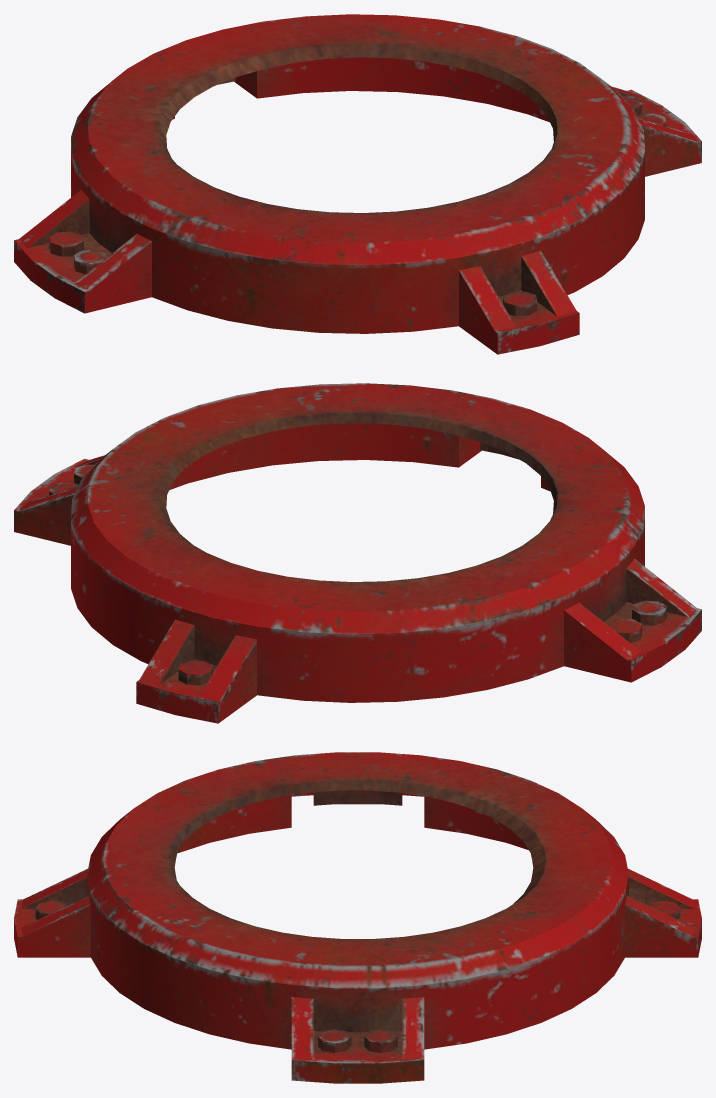
Rendered from asset_base_fixa.glb.
3 views of the same model, one above another, from view 1: azimuth 30°, elevation 25°; view 2: azimuth 150°, elevation 25°; view 3: azimuth 270°, elevation 25° (orthographic). The views are drawn at different scales.
Visible parts, largest first — view 1: Base_vermelha; view 2: Base_vermelha; view 3: Base_vermelha.
Boxes of the visible parts, bbox=[...] form: Base_vermelha: bbox=[14, 14, 701, 354]; Base_vermelha: bbox=[14, 383, 701, 723]; Base_vermelha: bbox=[14, 752, 701, 1083].
Bounding box in the file's own units: 0.1267 × 0.0161 × 0.127.
1 material, 1 textured.
